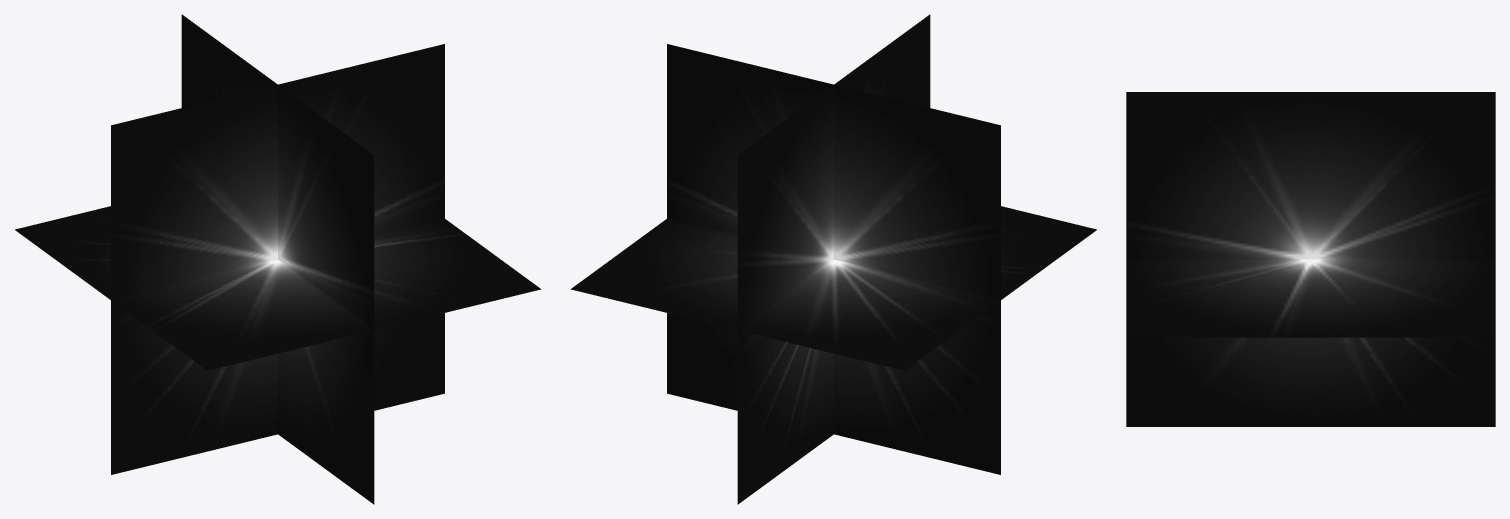
The model's file is si_eos_0110.glb.
3 views of the same model, side by side, from view 1: azimuth 30°, elevation 25°; view 2: azimuth 150°, elevation 25°; view 3: azimuth 270°, elevation 25° (orthographic). The views are drawn at different scales.
Visible parts, largest first — view 1: layer_00_si_est_0000; view 2: layer_00_si_est_0000; view 3: layer_00_si_est_0000.
Part boxes in pixels (box(x1,y1,x2,y2)): layer_00_si_est_0000: box(15, 14, 540, 504); layer_00_si_est_0000: box(571, 14, 1096, 504); layer_00_si_est_0000: box(1126, 92, 1495, 426).
Bounding box in the file's own units: 160 × 160 × 160.
Materials: 2 (2 with a texture image).
